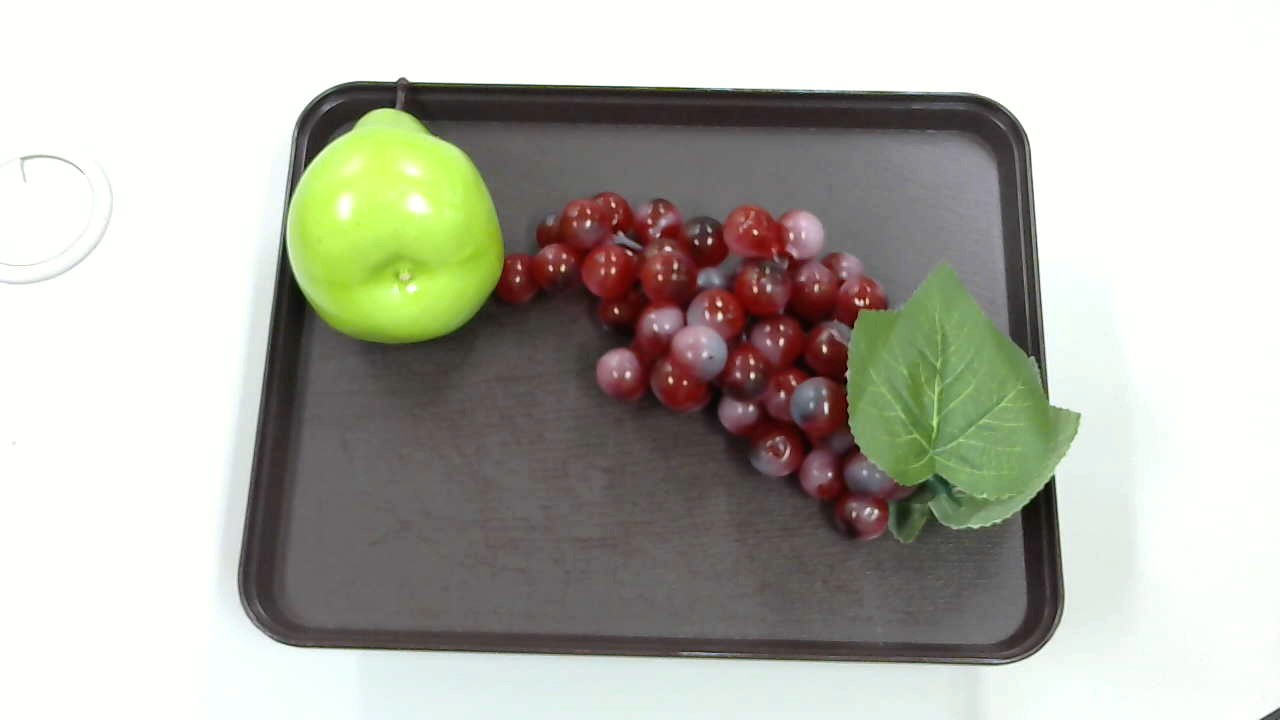grape: (500, 193, 1086, 549)
green pear: (279, 76, 505, 349)
